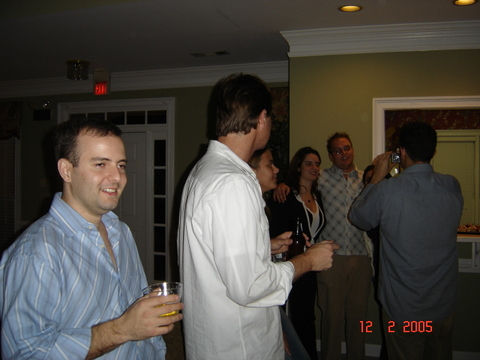person: (347, 118, 465, 360)
